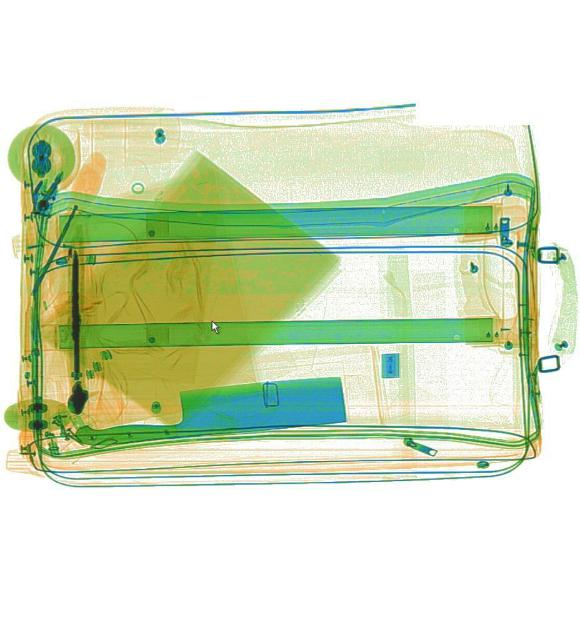Knife: (72, 372, 346, 448)
